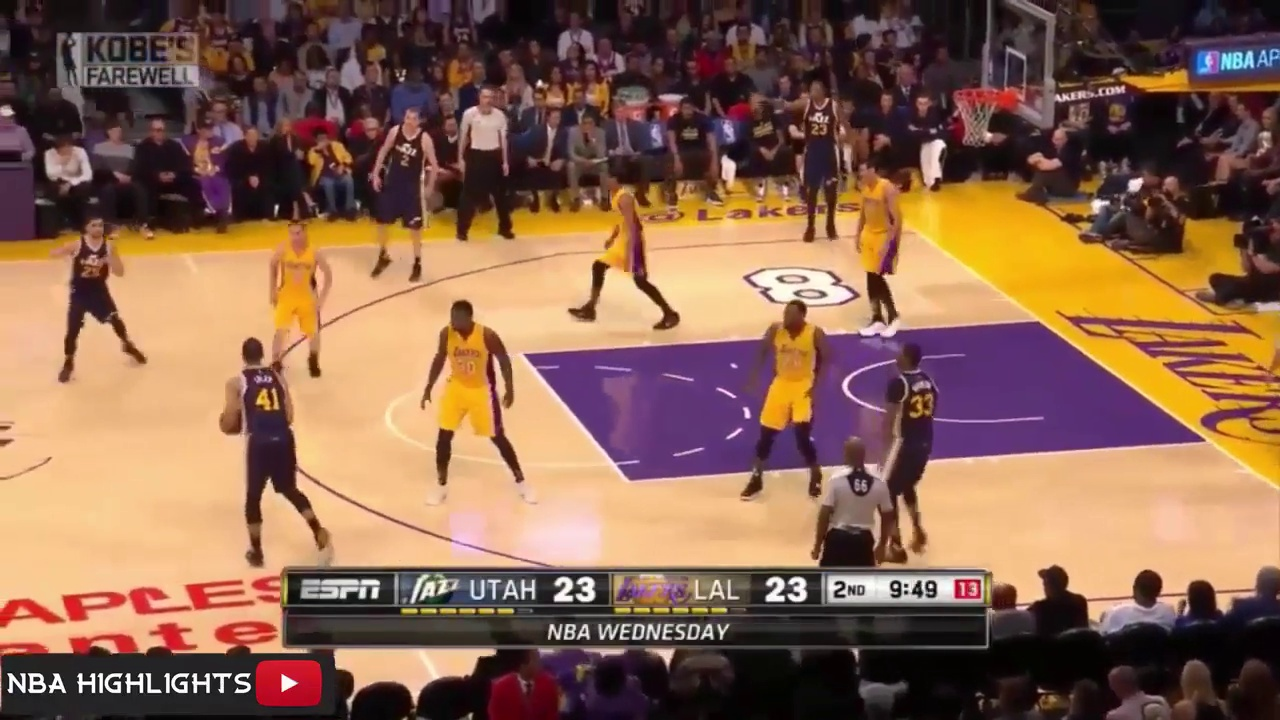jazz: (205, 337, 335, 561), (37, 206, 157, 375), (768, 77, 852, 243), (370, 108, 436, 287), (879, 348, 940, 540)
lakers: (417, 295, 543, 511), (729, 293, 827, 494), (576, 170, 680, 323), (253, 213, 336, 383), (846, 157, 901, 343)
